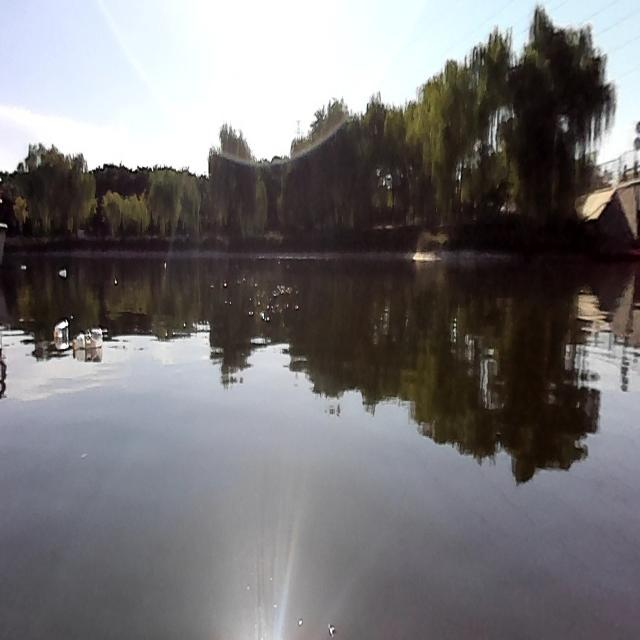bottle: (72, 332, 101, 351), (53, 321, 65, 339), (58, 268, 66, 279)
